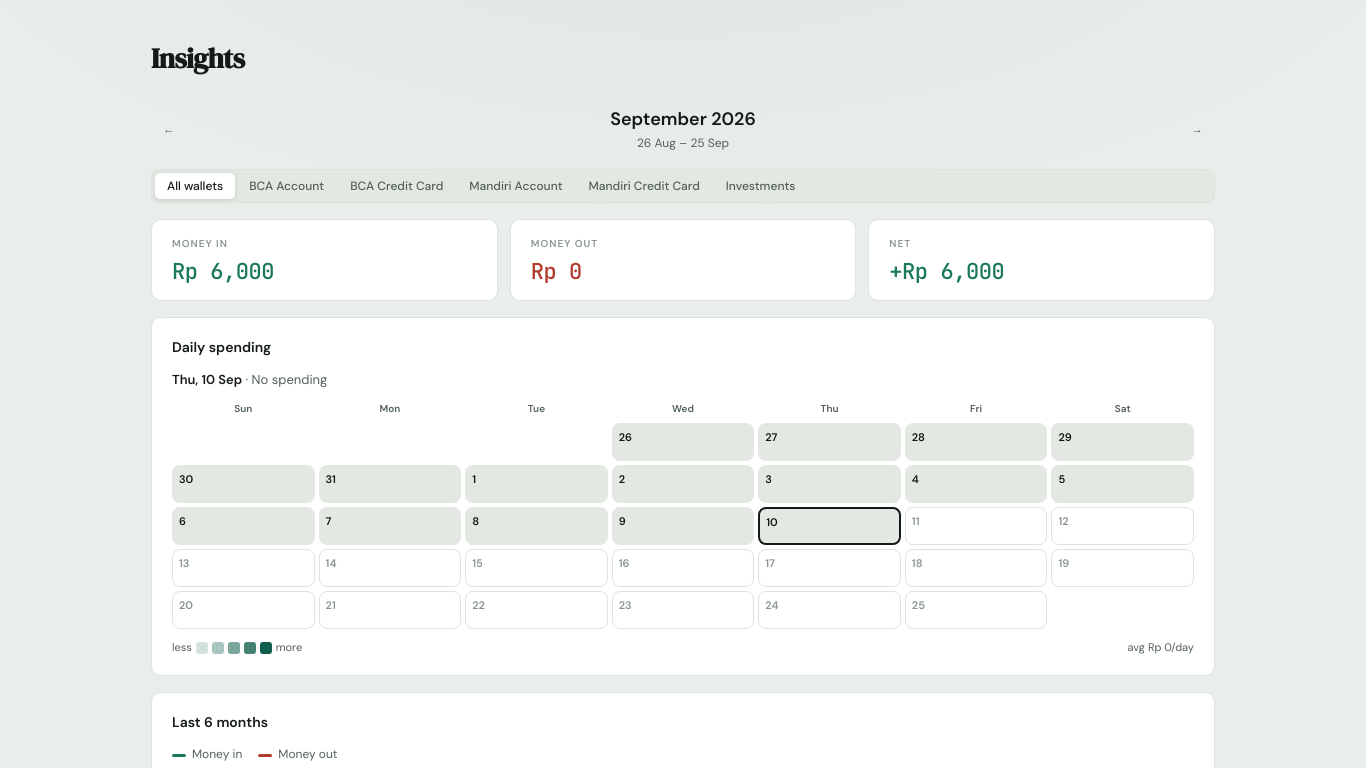
Test: shows only the book currency, and a wallet counts all its transfers
Expected: the text "Daily spending" is shown, [172,338,271,356]
Click the button "BCA Account" at x=287, y=186, box [237,173,336,199]
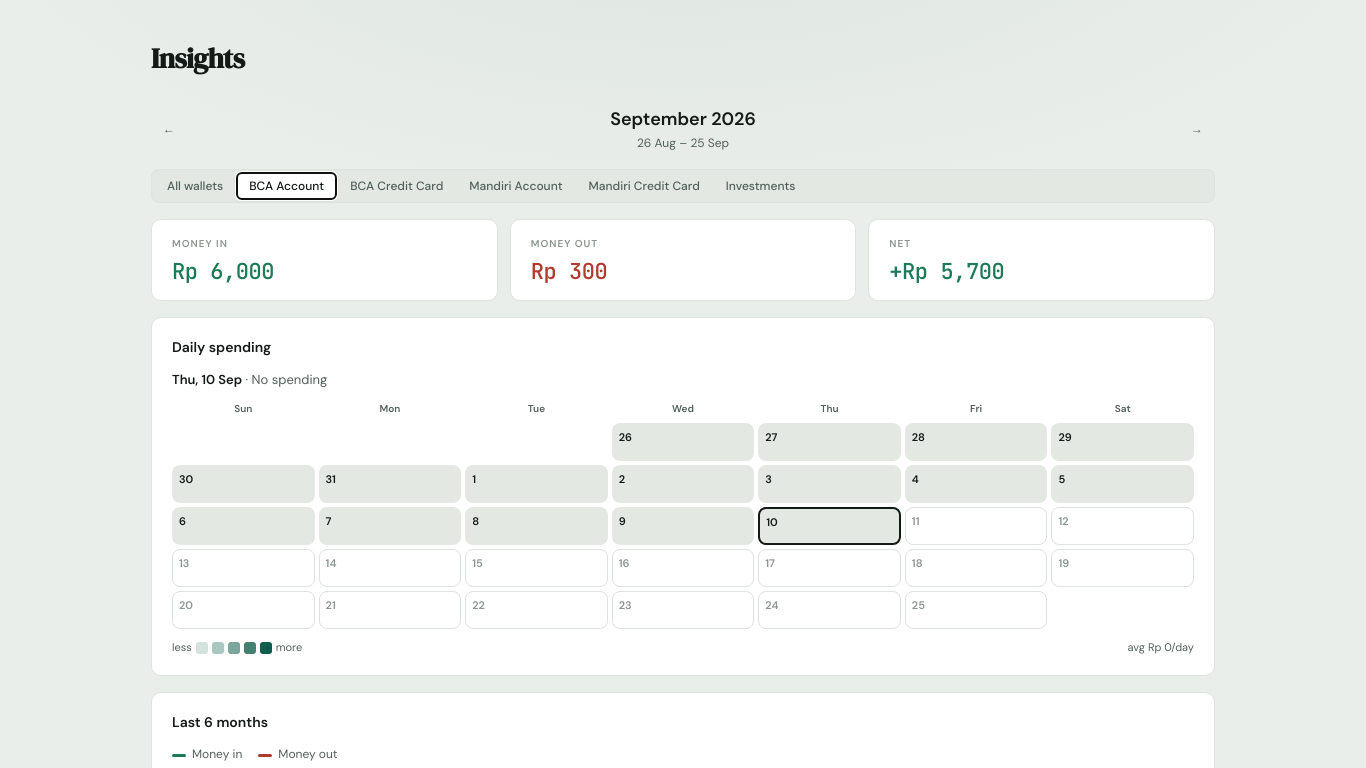
Expected: the text "Rp 6,000" is shown, [172,257,274,286]
Expected: the text "Rp 300" is shown, [531,257,607,286]
